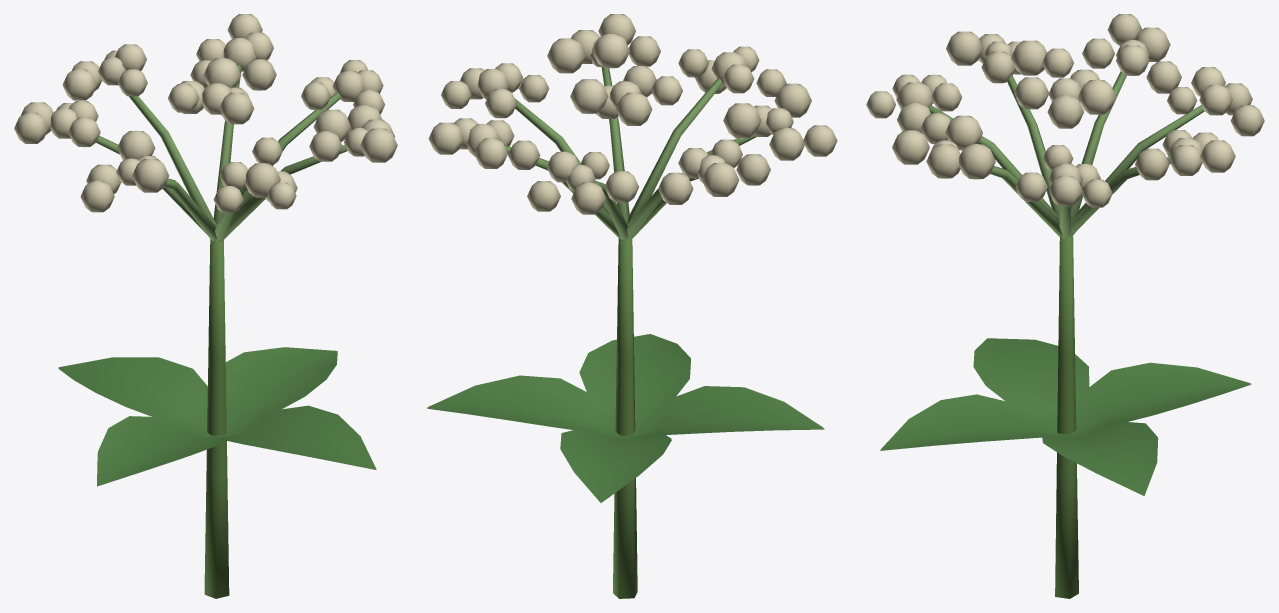
File: ing_elderflower.glb
3 renders of one model, left to right at view 1: azimuth 30°, elevation 25°; view 2: azimuth 150°, elevation 25°; view 3: azimuth 270°, elevation 25°, orthographic.
Visible parts, largest first — view 1: ing_elderflower; view 2: ing_elderflower; view 3: ing_elderflower.
Boxes of the visible parts, x1=… form: ing_elderflower: x1=14, y1=14, x2=397, y2=598; ing_elderflower: x1=427, y1=14, x2=837, y2=598; ing_elderflower: x1=866, y1=14, x2=1264, y2=598.
Size of what is drawn, in the model's own units: 0.2828 by 0.4219 by 0.2893.
